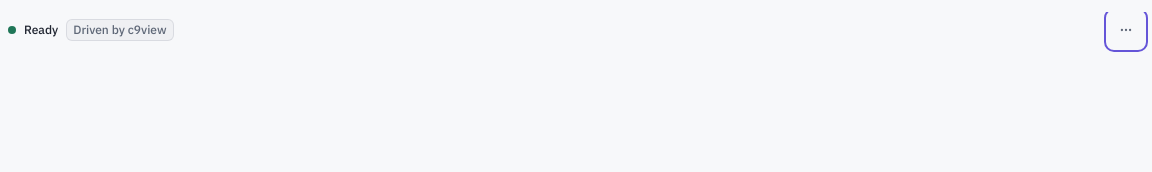
Scenario: closes the menu on Escape, returns focus to the trigger and does not stop
Click the button named "Run options" at {"x": 1126, "y": 30}, box [1108, 12, 1144, 48]
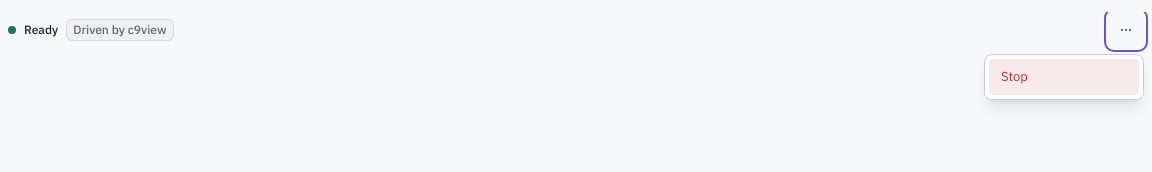
Press Escape in the menu item "Stop", box [989, 59, 1139, 95]
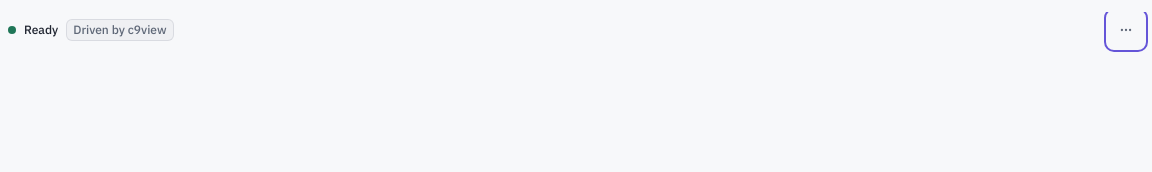
Check: the menu item is gone
